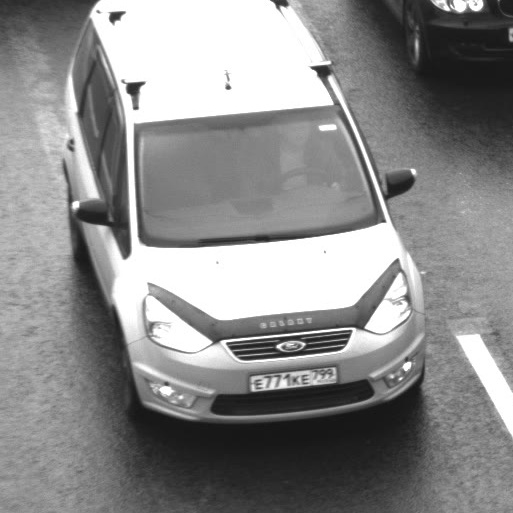plate: (239, 359, 346, 399)
